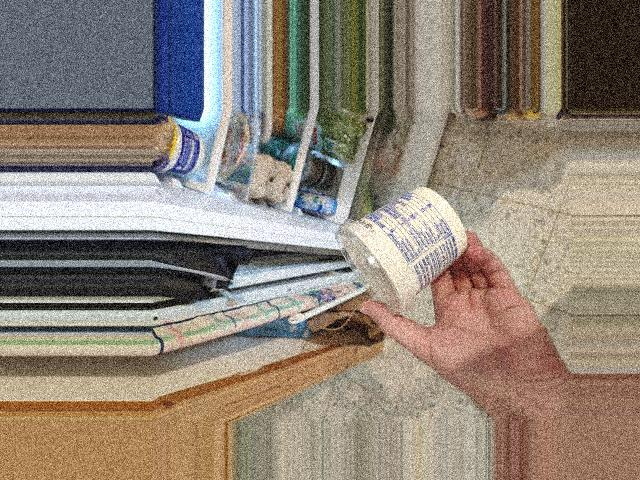cotage: (330, 204, 450, 303)
